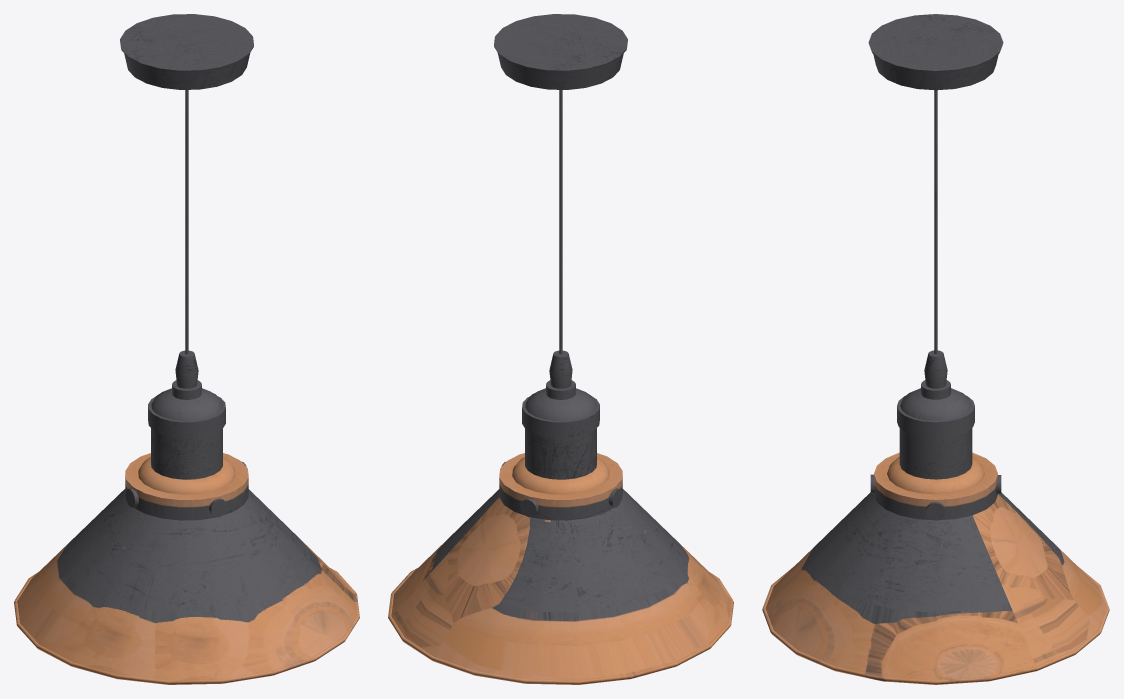
Rendered from celling_light.fbx.
The picture shows the model from 3 angles, left to right: view 1: azimuth 30°, elevation 25°; view 2: azimuth 150°, elevation 25°; view 3: azimuth 270°, elevation 25°; orthographic projection.
Parts seen in each view (by area): view 1: re_lamp_02; view 2: re_lamp_02; view 3: re_lamp_02.
Part boxes in pixels (x1,y1,x2,y2): re_lamp_02: (14,14,359,684); re_lamp_02: (388,14,733,684); re_lamp_02: (762,14,1109,684).
Size of the model in its own units: 66.62 by 125 by 66.62.
